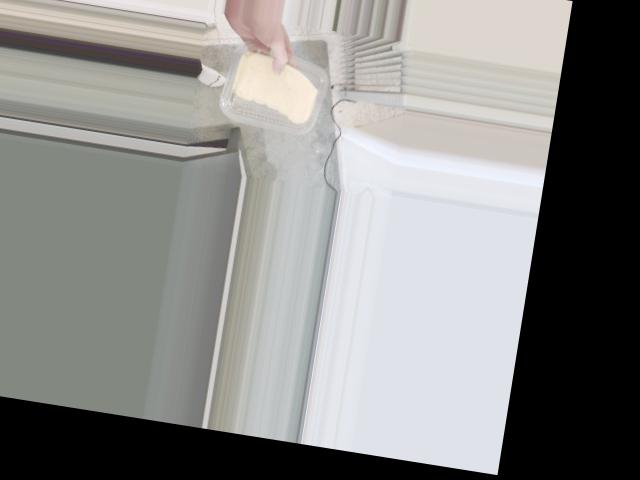cheese: (218, 42, 330, 130)
